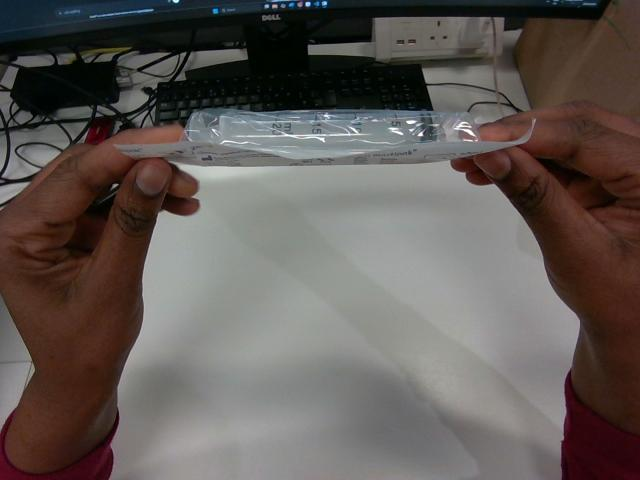syringe: (117, 109, 531, 165), (185, 109, 478, 159)
